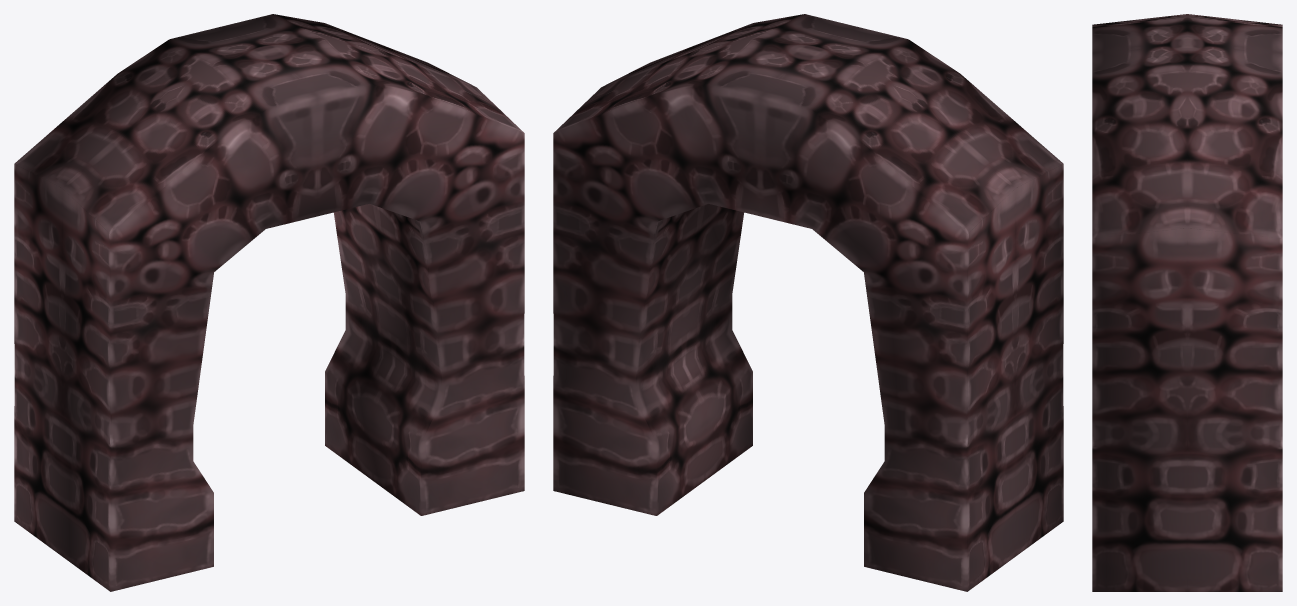
The picture shows the model from 3 angles, left to right: view 1: azimuth 30°, elevation 25°; view 2: azimuth 150°, elevation 25°; view 3: azimuth 270°, elevation 25°; orthographic projection.
Visible parts, largest first — view 1: Gate Type A; view 2: Gate Type A; view 3: Gate Type A.
Part boxes in pixels (x1,y1,x2,y2): Gate Type A: [14, 14, 524, 591]; Gate Type A: [553, 14, 1063, 591]; Gate Type A: [1092, 14, 1282, 591].
Bounding box in the file's own units: 400 × 420 × 161.
1 material, 1 textured.
